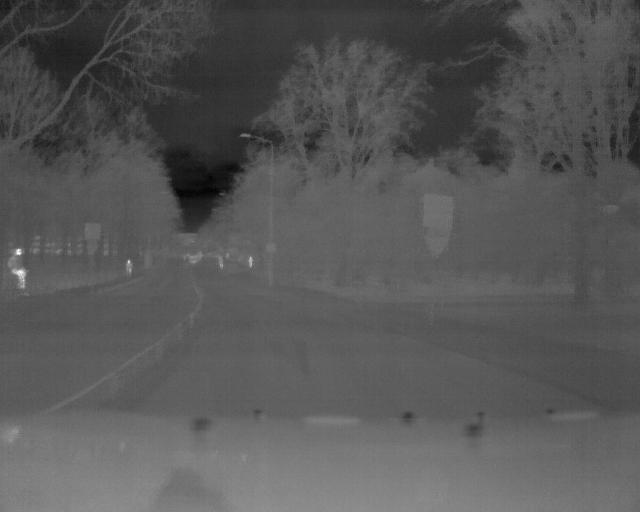person: (9, 243, 31, 296), (123, 256, 133, 277), (247, 253, 255, 270), (217, 255, 225, 271)
